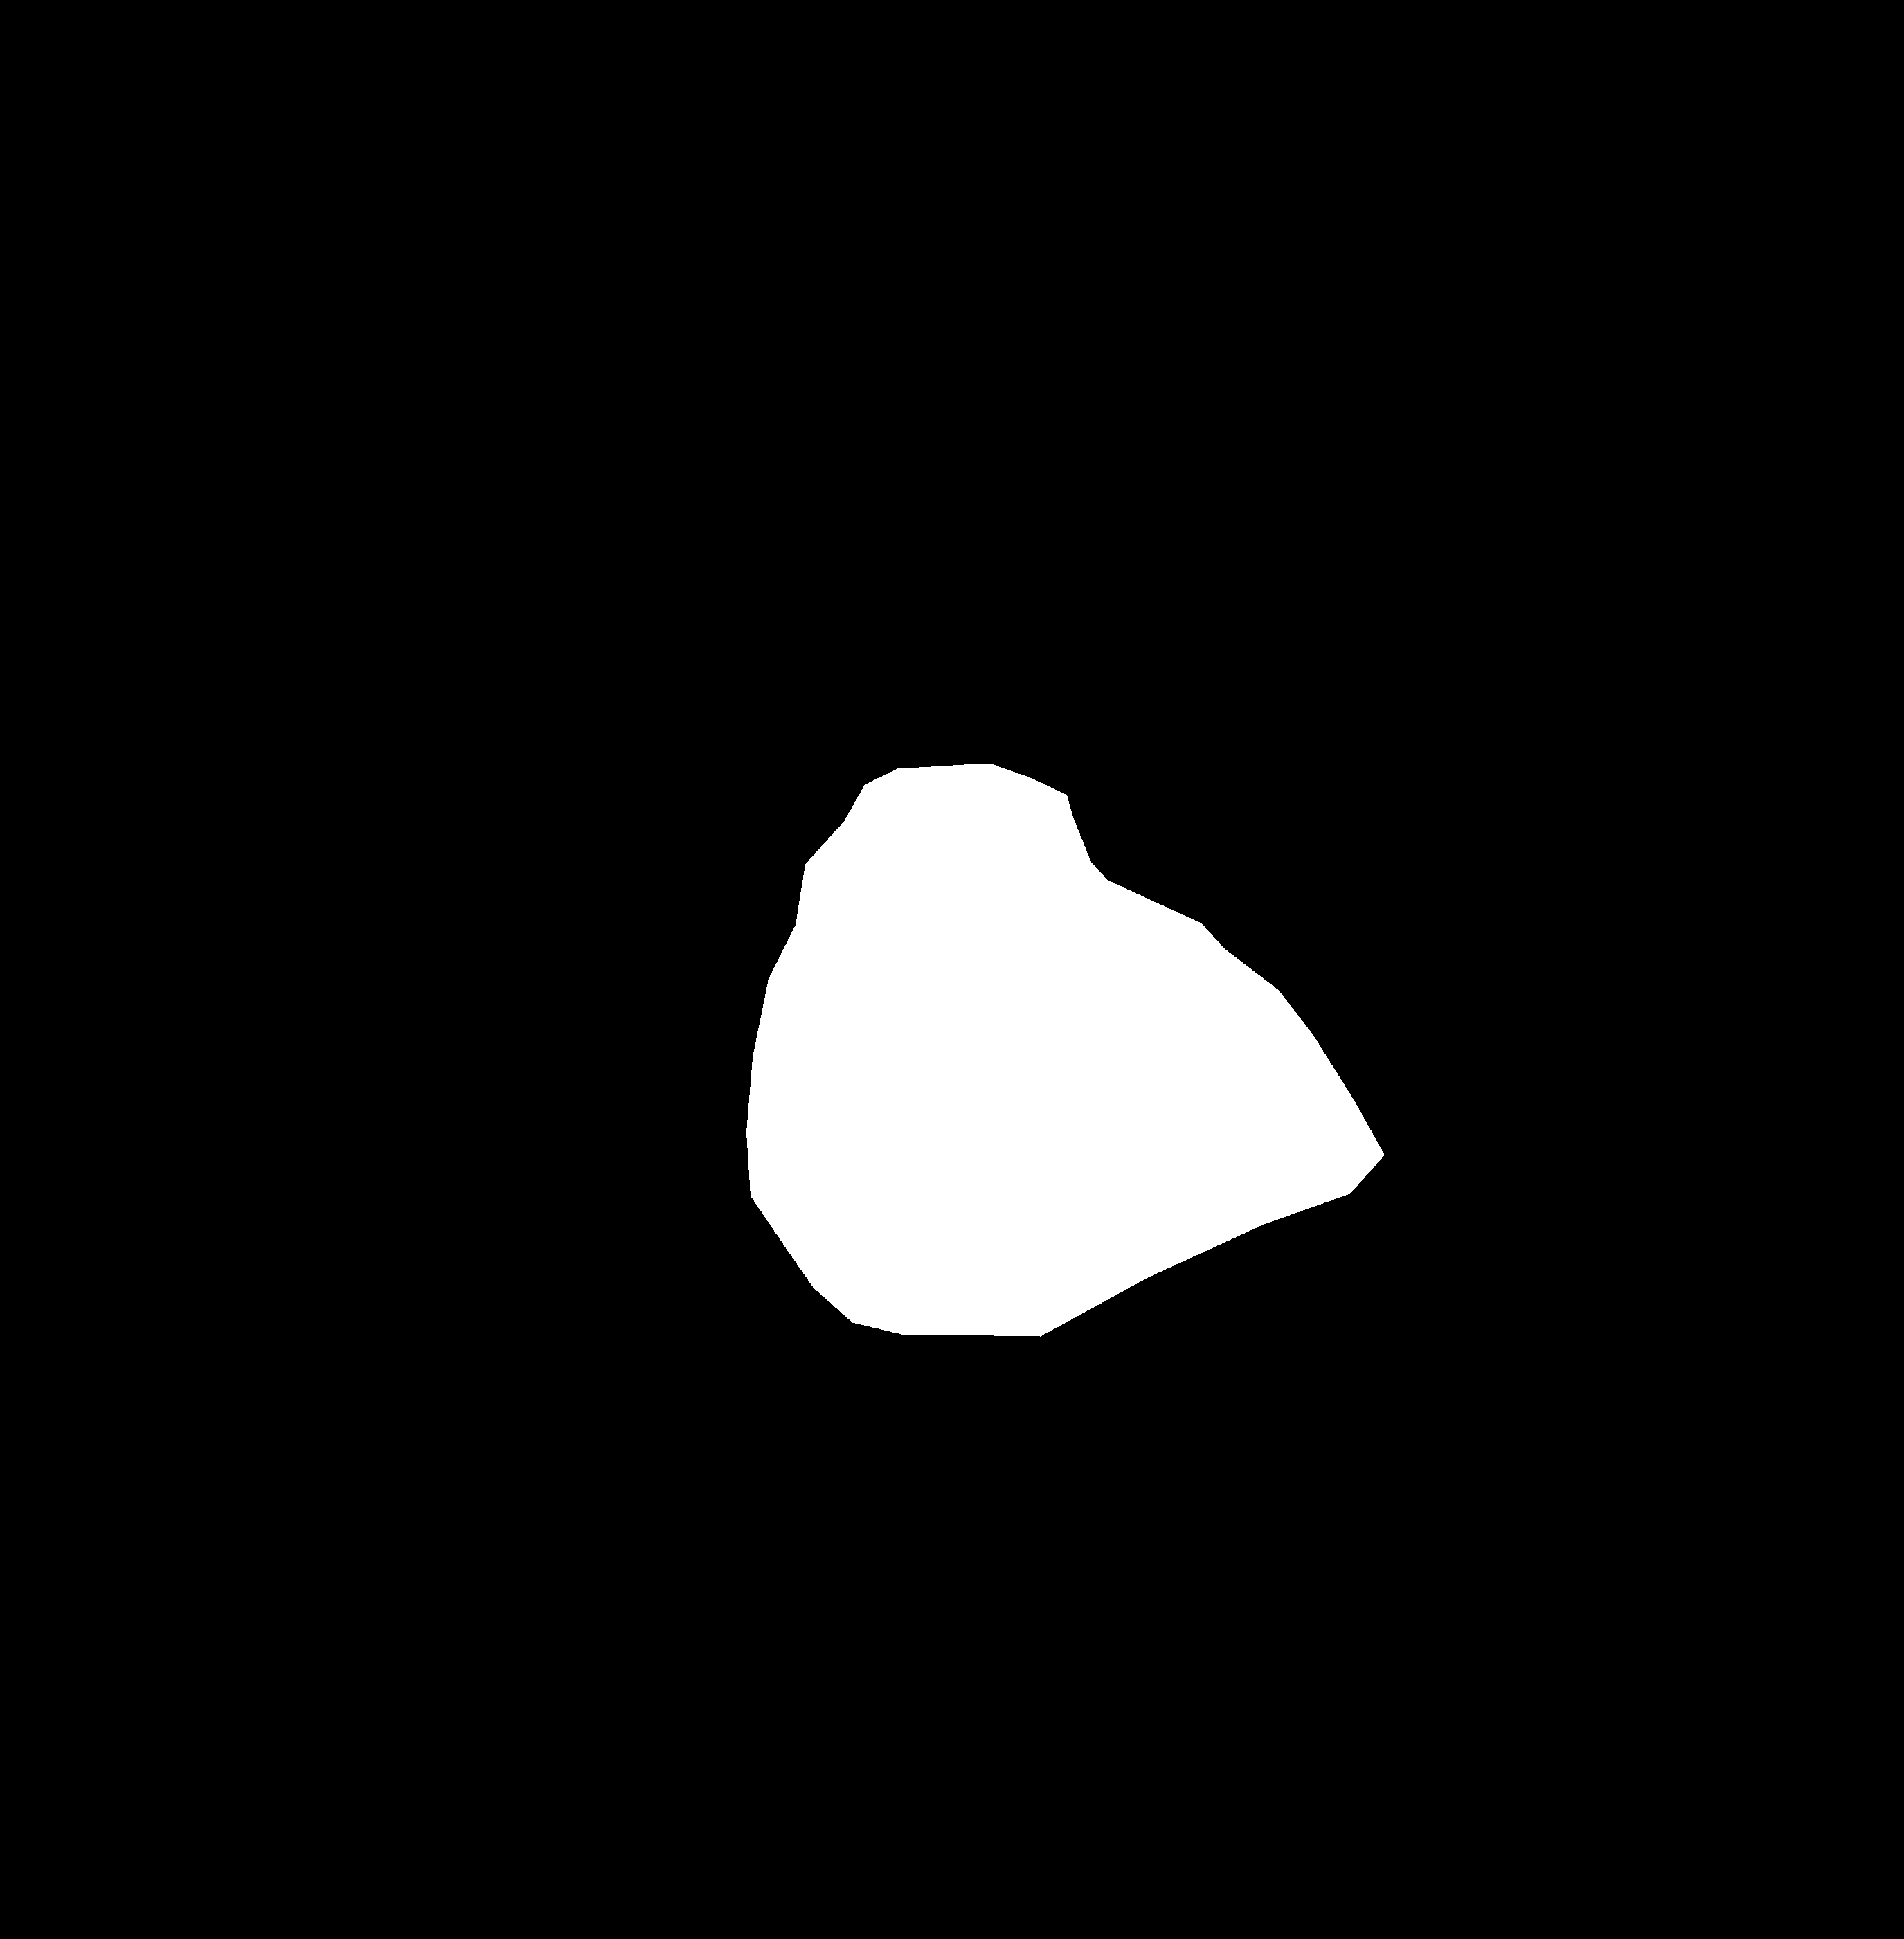heart: (746, 764, 1384, 1336)
left_lung: (213, 241, 940, 1564)
right_lung: (1078, 249, 1651, 1306)
